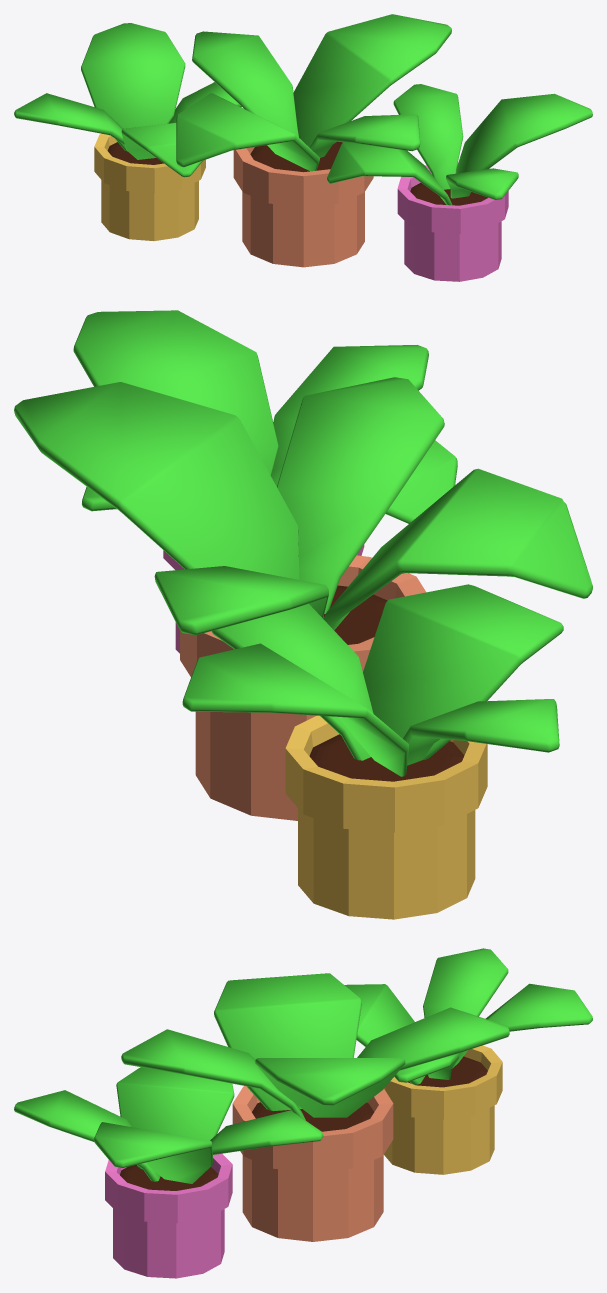
Rendered from Plantinhas.fbx.
3 views of the same model, one above another, from view 1: azimuth 30°, elevation 25°; view 2: azimuth 150°, elevation 25°; view 3: azimuth 270°, elevation 25° (orthographic). The views are drawn at different scales.
Visible parts, largest first — view 1: Plane.022, Circle.027, Circle.028, Plane.027, Circle.029, Plane.026, Plane.025, Plane.023, Plane.028, Plane.030, Plane.024, Plane.029; view 2: Plane.022, Circle.029, Plane.030, Plane.026, Circle.027, Plane.027, Plane.029, Plane.028, Plane.024, Plane.023; view 3: Plane.022, Circle.027, Circle.028, Circle.029, Plane.023, Plane.026, Plane.028, Plane.027, Plane.024, Plane.025, Plane.030, Plane.029.
Boxes of the visible parts, x1,y1,x2,y2 form: Plane.022: (176,14,451,171); Circle.027: (233,141,373,267); Circle.028: (397,163,508,281); Plane.027: (81,23,185,151); Circle.029: (94,133,205,240); Plane.026: (456,93,592,173); Plane.025: (393,84,463,189); Plane.023: (327,142,452,205); Plane.028: (14,93,124,144); Plane.030: (121,123,202,177); Plane.024: (446,168,518,199); Plane.029: (169,82,241,123); Plane.022: (14,377,592,635); Circle.029: (285,715,487,919); Plane.030: (363,584,563,759); Plane.026: (73,310,278,475); Circle.027: (180,555,425,820); Plane.027: (182,643,408,776); Plane.029: (211,603,373,760); Plane.028: (403,699,559,765); Plane.024: (271,345,428,486); Plane.023: (385,440,457,523); Plane.022: (121,973,509,1120); Circle.027: (232,1086,393,1241); Circle.028: (105,1153,232,1278); Circle.029: (384,1045,502,1174); Plane.023: (116,1067,234,1169); Plane.026: (94,1122,212,1183); Plane.028: (423,948,508,1017); Plane.027: (452,983,592,1068); Plane.024: (14,1090,160,1181); Plane.025: (210,1110,323,1154); Plane.030: (344,984,424,1084); Plane.029: (394,1053,459,1082).
Bounding box in the file's own units: 164 × 66.2 × 171.
